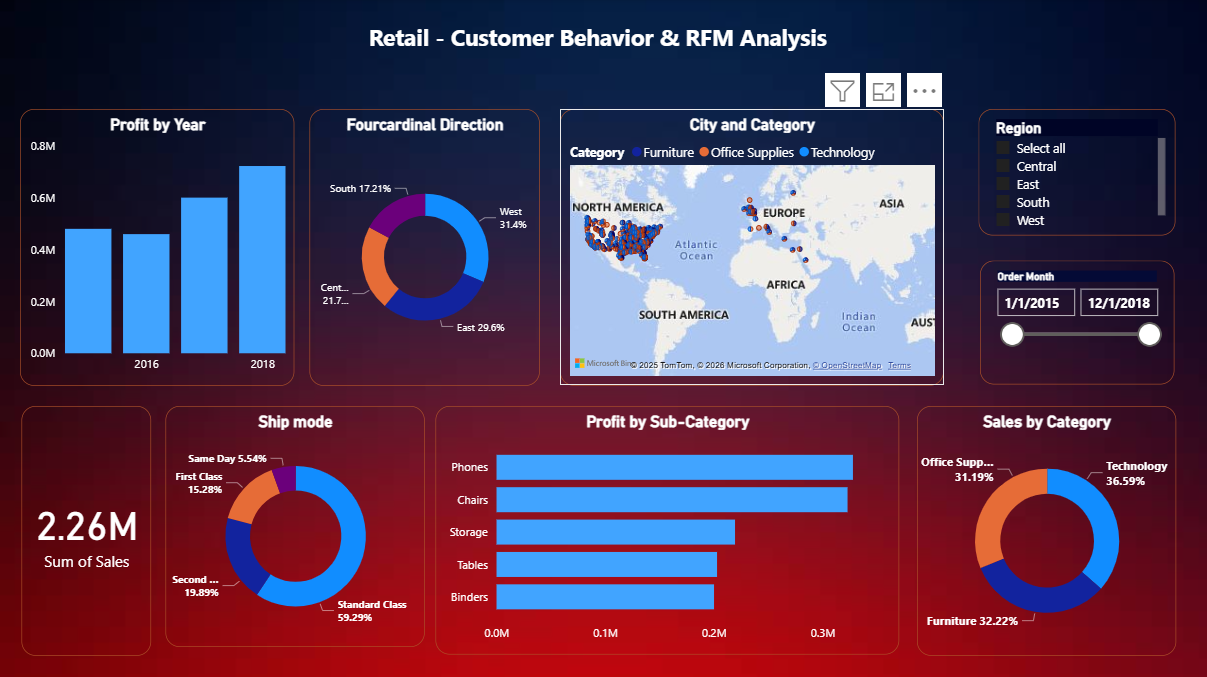

What the dashboard file says about the page in this screenshot:
{"tool":"powerbi","page":{"name":"Page 1","canvas":[1280,720],"ordinal":0},"visuals":[{"type":"textbox","box":[354,19.2,559.9,42.5],"z":0},{"type":"columnChart","title":"Profit by Year","fields":{"Category":["sales_cohort_week3.Order Month.Variation.Date Hierarchy.Year","sales_cohort_week3.Order Month.Variation.Date Hierarchy.Quarter","sales_cohort_week3.Order Month.Variation.Date Hierarchy.Month","sales_cohort_week3.Order Month.Variation.Date Hierarchy.Day"],"Y":["Sum(sales_cohort_week3.Sales)"]},"box":[22.9,117,290.8,293.2],"z":1000},{"type":"barChart","title":"Profit by Sub-Category","fields":{"Category":["sales_cohort_week3.Sub-Category"],"Y":["Sum(sales_cohort_week3.Sales)"]},"box":[472.1,432.3,491.1,263.8],"z":2000},{"type":"donutChart","title":"Sales by Category","fields":{"Category":["sales_cohort_week3.Category"],"Y":["Sum(sales_cohort_week3.Sales)"]},"box":[977.5,432.3,275,265.4],"z":3000},{"type":"donutChart","title":"Fourcardinal Direction","fields":{"Category":["sales_cohort_week3.Region"],"Y":["Sum(sales_cohort_week3.Sales)"]},"box":[329.4,117,243.7,293.2],"z":4000},{"type":"card","fields":{"Values":["Sum(sales_cohort_week3.Sales)"]},"box":[6.4,432.3,176.4,133.5],"z":5000},{"type":"donutChart","title":"Ship mode","fields":{"Y":["Sum(sales_cohort_week3.Sales)"],"Category":["sales_cohort_week3.Ship Mode"]},"box":[189.1,432.3,275,255.9],"z":6000},{"type":"map","title":"Location","fields":{"Series":["sales_cohort_week3.Category"],"Category":["sales_cohort_week3.City"]},"box":[594.8,117,406.6,293.2],"z":7000},{"type":"slicer","fields":{"Values":["sales_cohort_week3.Region"]},"box":[1037.5,117,208.7,133.9],"z":8000},{"type":"slicer","fields":{"Values":["sales_cohort_week3.Order Month"]},"box":[1040,278.7,206.3,131.5],"z":9000},{"type":"card","fields":{"Values":["Count(week2_rfm_output.Customer Name)"]},"box":[6.4,573.8,176.4,124],"z":10000}]}

Visuals, with their boxes in screenshot pixels (x1, y1, x2, y2), scaled from the page's 1280x720 canvas onto the 1207x677 screenshot:
textbox: <bbox>334, 18, 862, 58</bbox>
"Profit by Year" columnChart: <bbox>22, 110, 296, 386</bbox>
"Profit by Sub-Category" barChart: <bbox>445, 406, 908, 655</bbox>
"Sales by Category" donutChart: <bbox>922, 406, 1181, 656</bbox>
"Fourcardinal Direction" donutChart: <bbox>311, 110, 540, 386</bbox>
card - Sum(sales_cohort_week3.Sales): <bbox>6, 406, 172, 532</bbox>
"Ship mode" donutChart: <bbox>178, 406, 438, 647</bbox>
"Location" map: <bbox>561, 110, 944, 386</bbox>
slicer - sales_cohort_week3.Region: <bbox>978, 110, 1175, 236</bbox>
slicer - sales_cohort_week3.Order Month: <bbox>981, 262, 1175, 386</bbox>
card - Count(week2_rfm_output.Customer Name): <bbox>6, 540, 172, 656</bbox>
